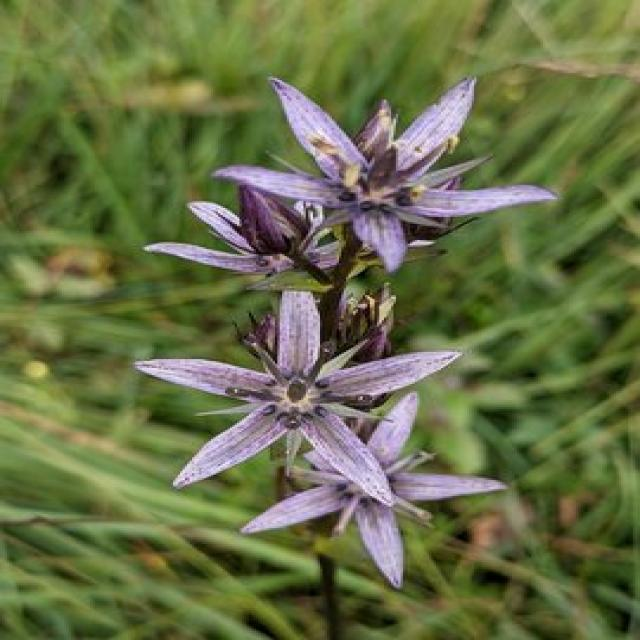Chirata: (84, 0, 640, 640), (125, 296, 640, 638), (93, 171, 516, 401), (150, 47, 529, 222)
